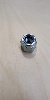Nut: (20, 32, 38, 52)
